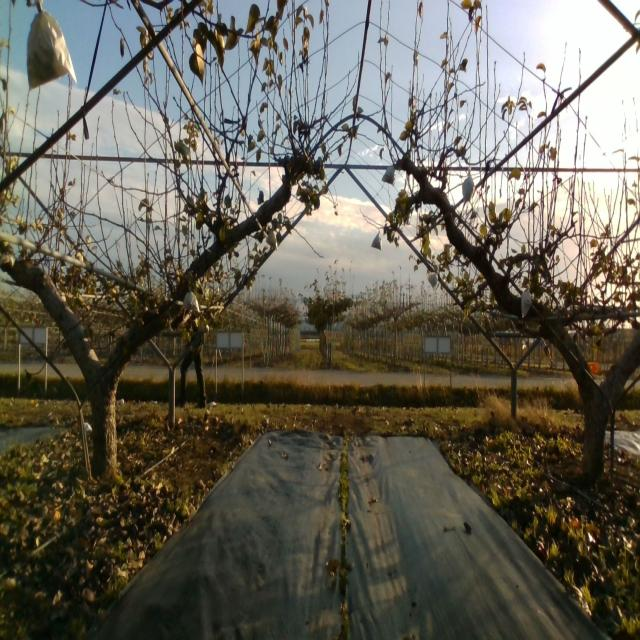pearbags: (26, 1, 75, 94), (182, 286, 201, 312), (520, 286, 533, 318), (462, 171, 475, 202), (265, 228, 279, 251), (381, 166, 396, 187), (426, 269, 440, 289), (371, 230, 382, 252)
